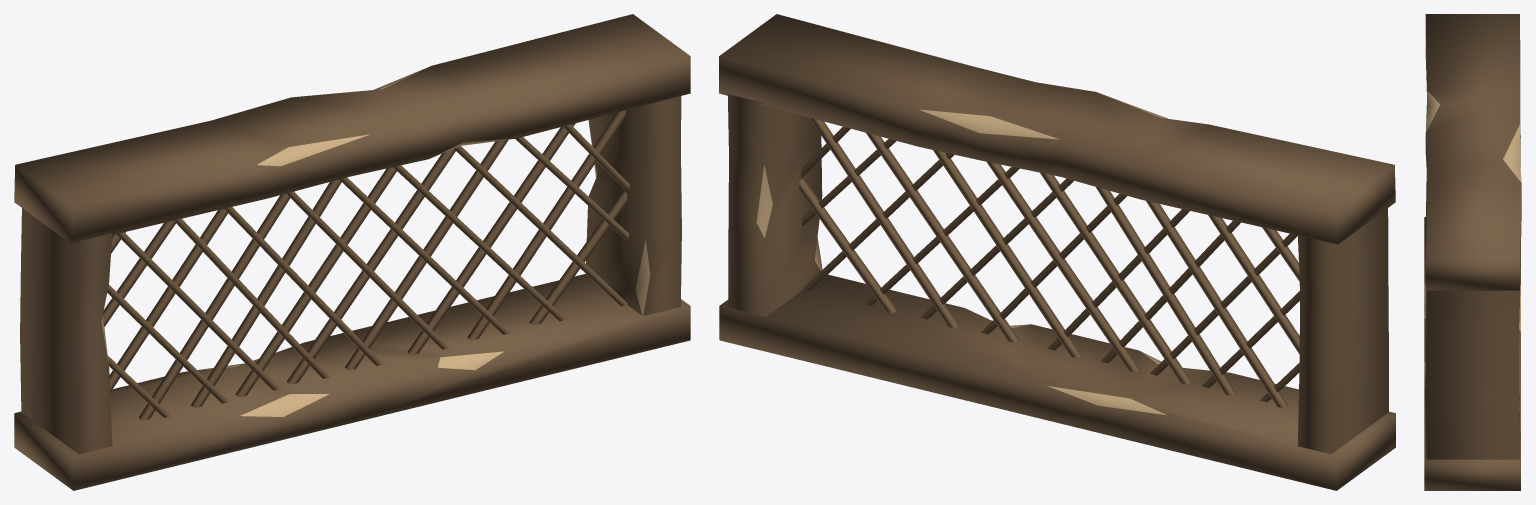
The model's file is rpgpp_ag_window_02c.fbx.
3 renders of one model, left to right at view 1: azimuth 30°, elevation 25°; view 2: azimuth 150°, elevation 25°; view 3: azimuth 270°, elevation 25°, orthographic. The views are drawn at different scales.
Visible parts, largest first — view 1: rpgpp_ag_window_02c; view 2: rpgpp_ag_window_02c; view 3: rpgpp_ag_window_02c.
Part boxes in pixels (x1,y1,x2,y2): rpgpp_ag_window_02c: (14,14,690,490); rpgpp_ag_window_02c: (719,14,1395,490); rpgpp_ag_window_02c: (1424,14,1521,490).
Size of the model in its own units: 3.09 by 1.35 by 0.5156.
